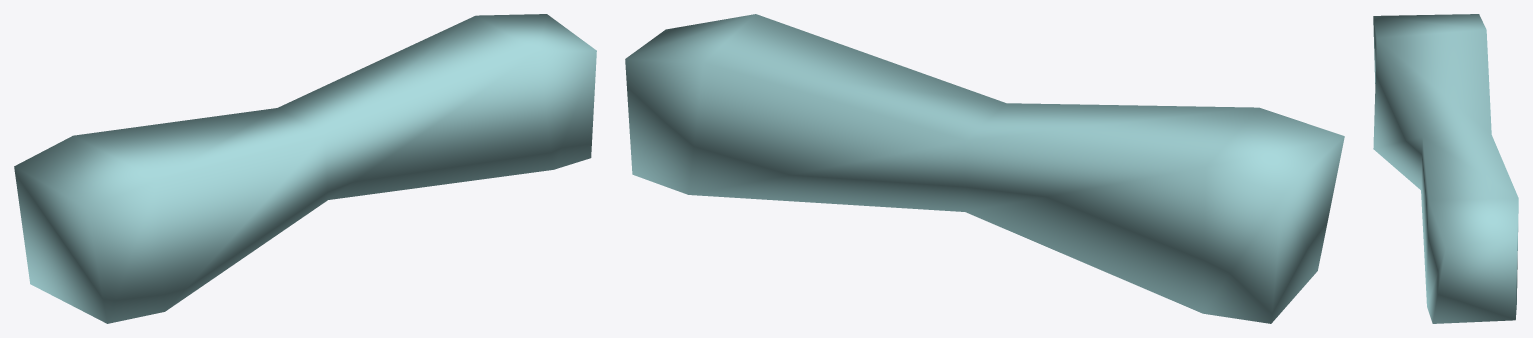
The model's file is Skelly_palm.02.R.fbx.
The picture shows the model from 3 angles, left to right: view 1: azimuth 30°, elevation 25°; view 2: azimuth 150°, elevation 25°; view 3: azimuth 270°, elevation 25°; orthographic projection. The views are drawn at different scales.
Parts seen in each view (by area): view 1: Skelly_palm.02.R; view 2: Skelly_palm.02.R; view 3: Skelly_palm.02.R.
Part boxes in pixels (box(x1,y1,x2,y2)): Skelly_palm.02.R: box(14, 14, 596, 323); Skelly_palm.02.R: box(625, 14, 1344, 323); Skelly_palm.02.R: box(1373, 14, 1518, 323).
Size of the model in its own units: 8.89 by 2.06 by 2.4.
